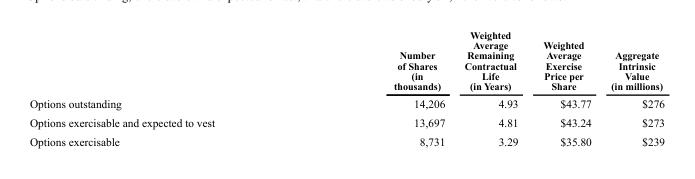table: (28, 29, 664, 147)
table column: (28, 29, 303, 147), (303, 29, 453, 147), (453, 29, 530, 147), (530, 29, 600, 147), (600, 29, 664, 147)
table column header: (28, 29, 664, 94)
table row: (28, 29, 664, 94), (28, 94, 664, 113), (28, 113, 664, 132), (28, 132, 664, 147)
